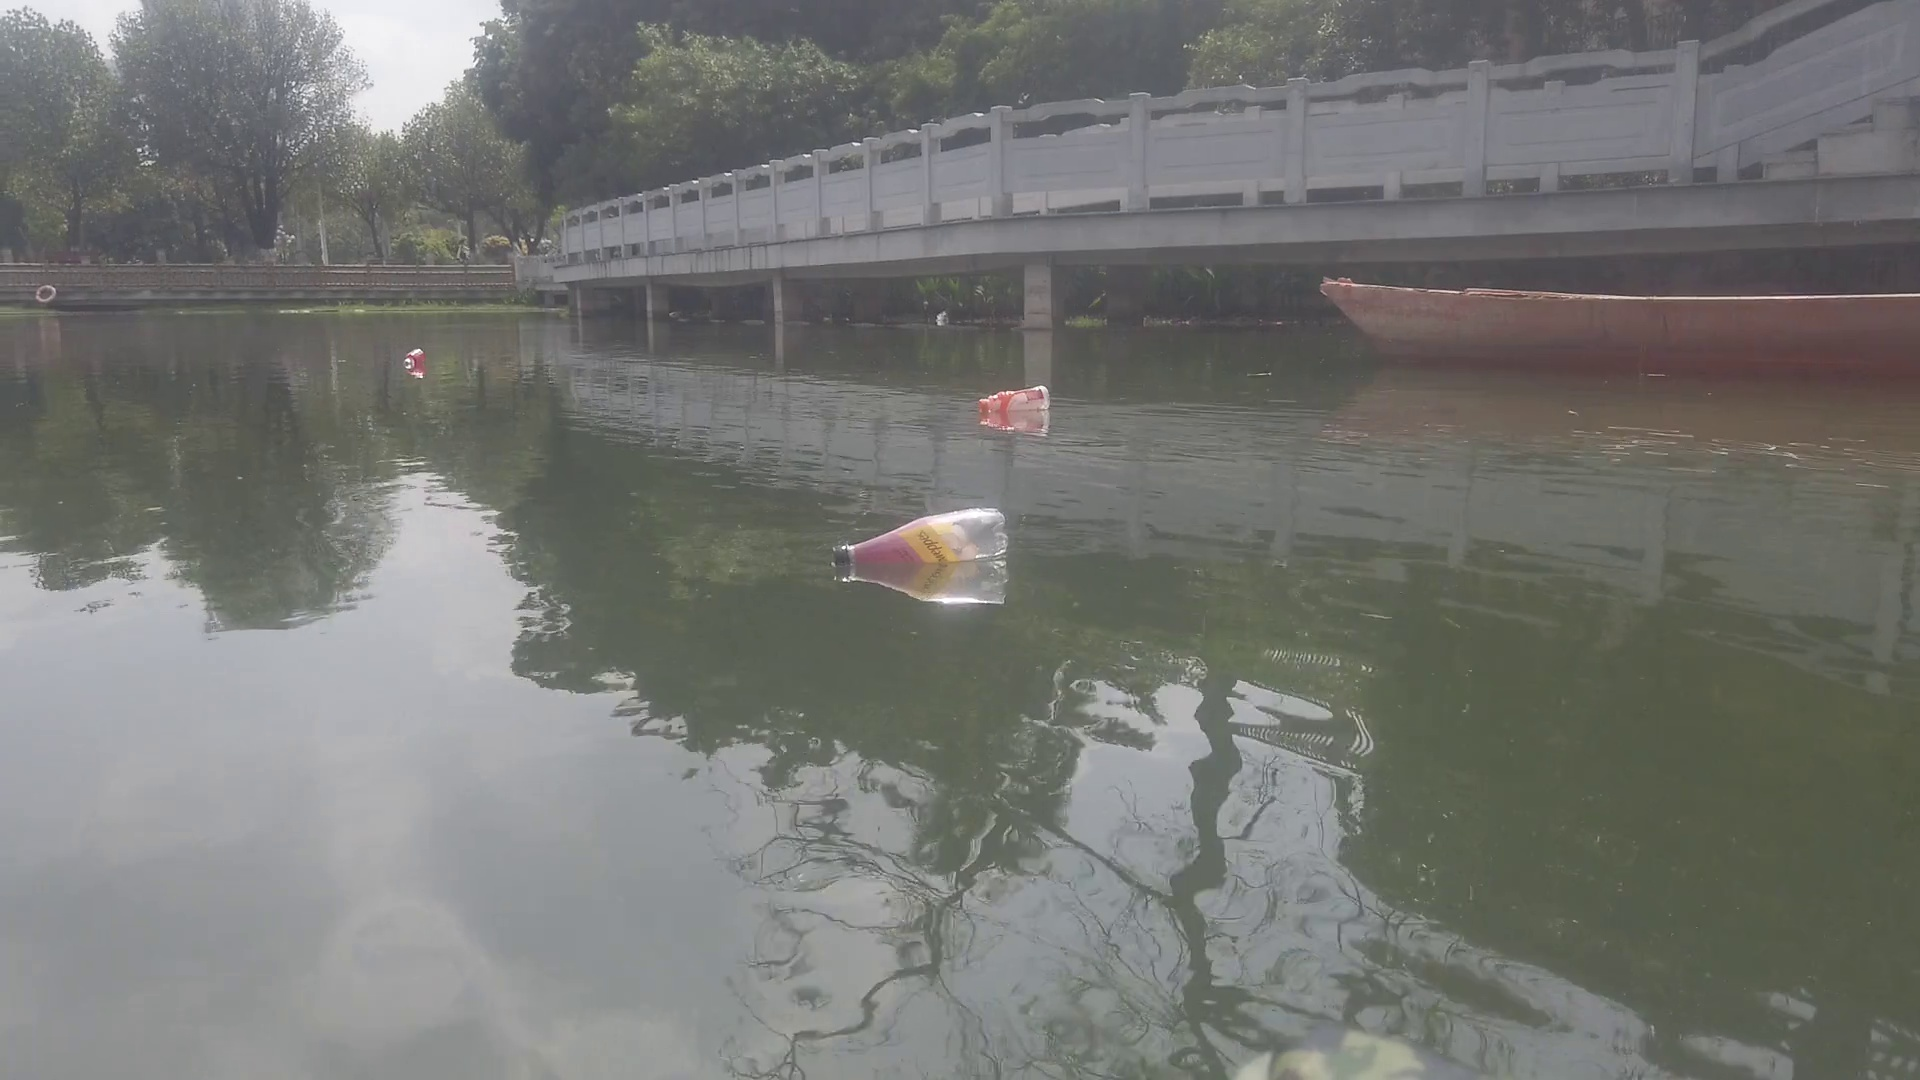bottle: (828, 505, 1009, 562), (972, 378, 1058, 411), (401, 349, 429, 369)
